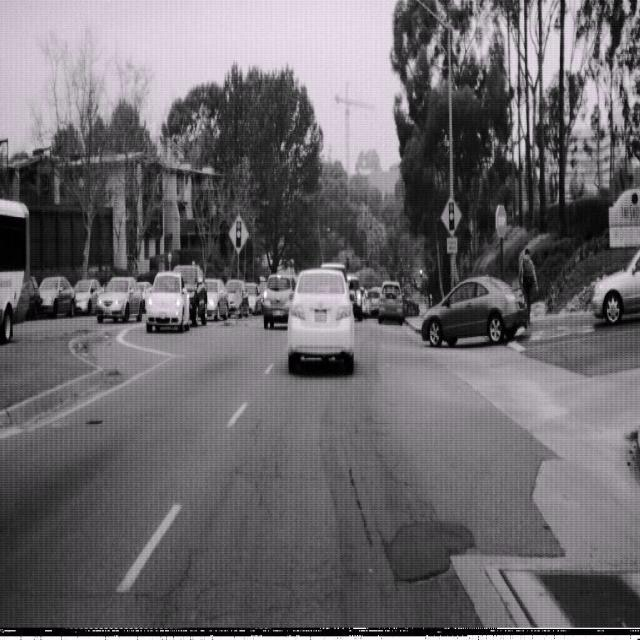stop: (494, 202, 508, 240)
